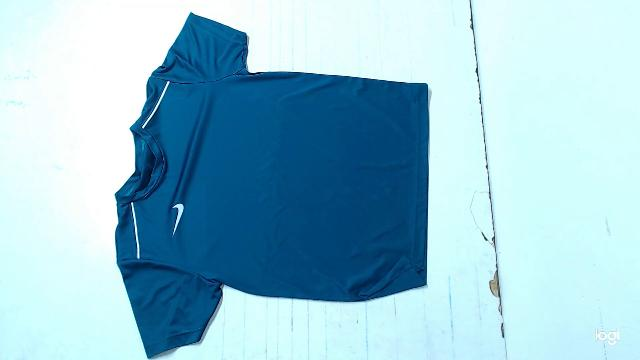new-garment: (115, 13, 429, 357)
